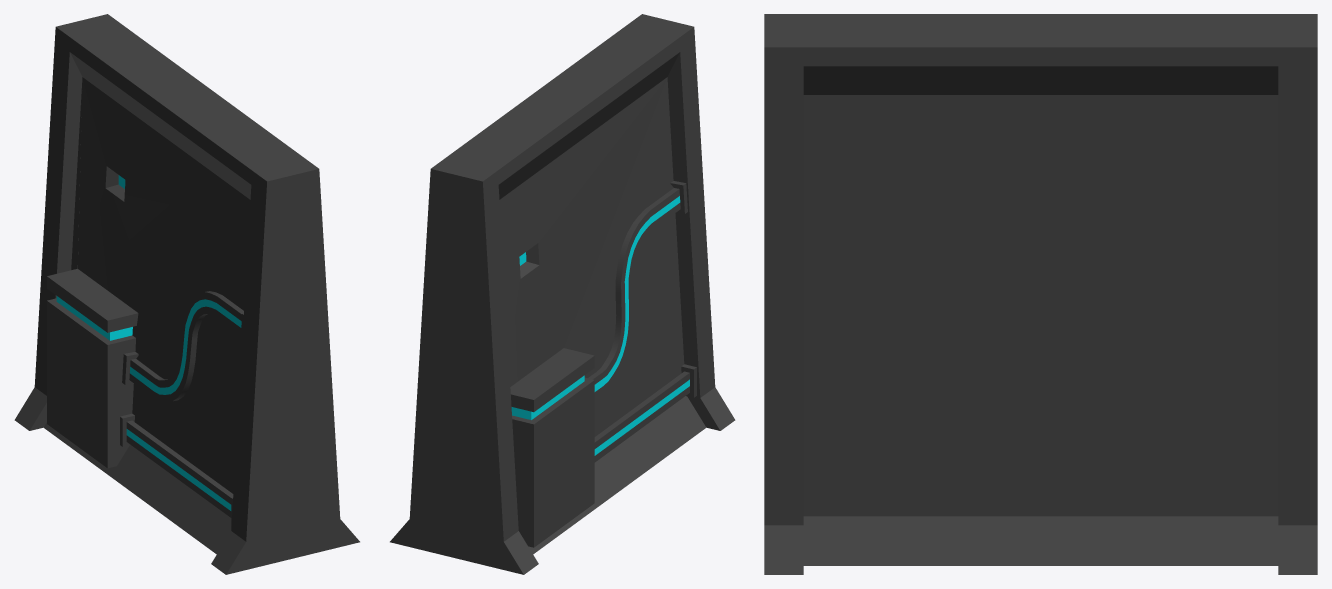
File: Modular wall electrical.fbx
3 renders of one model, left to right at view 1: azimuth 30°, elevation 25°; view 2: azimuth 150°, elevation 25°; view 3: azimuth 270°, elevation 25°, orthographic. The views are drawn at different scales.
Visible parts, largest first — view 1: Modular Wall electrical; view 2: Modular Wall electrical; view 3: Modular Wall electrical.
Boxes of the visible parts, <box> form: Modular Wall electrical: <box>14,14,359,574</box>; Modular Wall electrical: <box>390,14,735,574</box>; Modular Wall electrical: <box>764,14,1317,574</box>.
Size of the model in its own units: 73.43 by 200 by 200.
